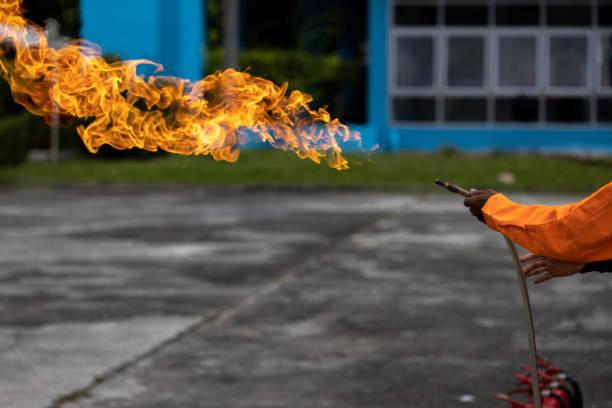Fire: (3, 3, 363, 179)
